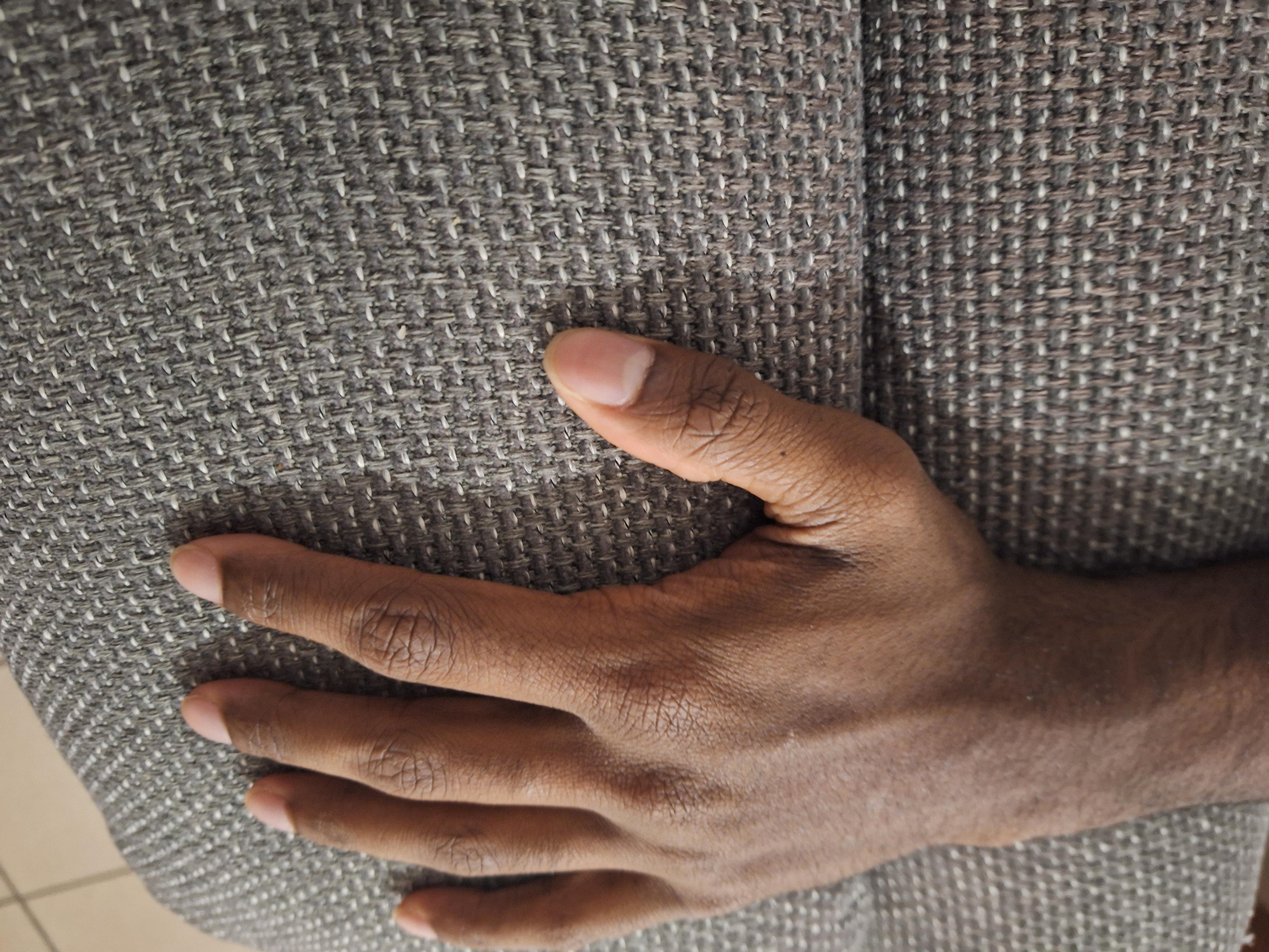Fingernail: (545, 326, 653, 406), (169, 545, 223, 608), (180, 694, 231, 744), (246, 787, 298, 835)
